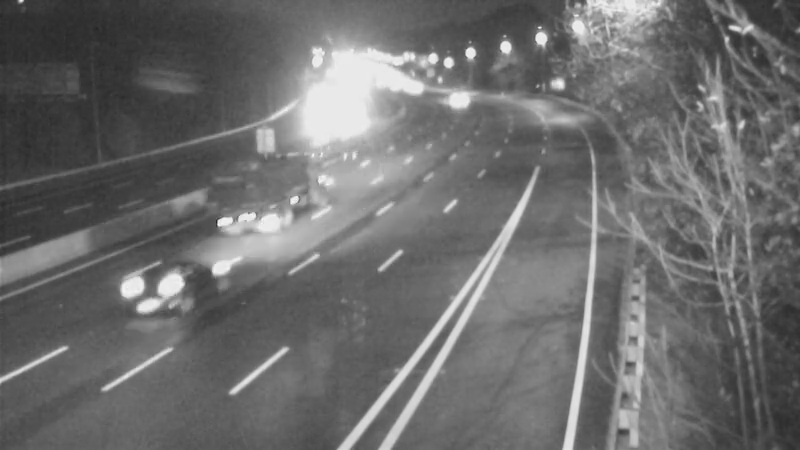vehicle: (216, 170, 296, 250)
